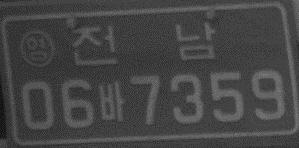0: (21, 79, 55, 130)
3: (169, 72, 204, 125)
5: (208, 71, 244, 124)
6: (60, 77, 95, 130)
7: (128, 74, 162, 125)
9: (250, 68, 285, 121)
바: (97, 81, 125, 124)
영: (19, 29, 56, 68)
전남_D: (71, 21, 216, 67)
